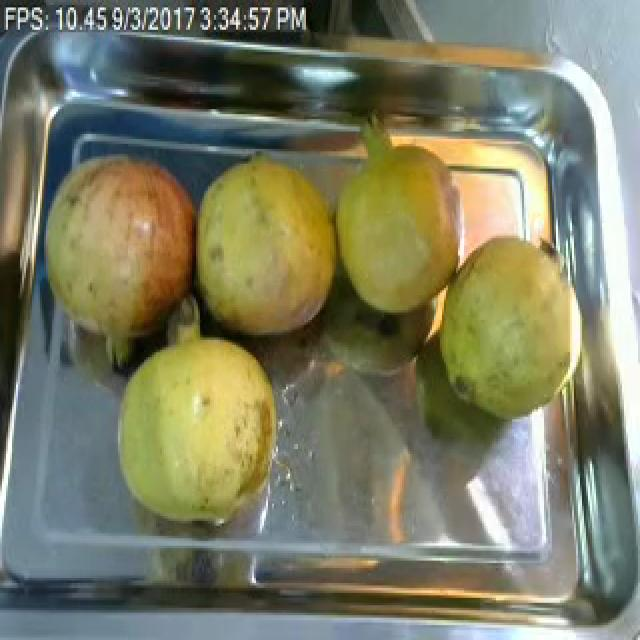fruit: (32, 139, 212, 384), (108, 320, 296, 541), (426, 218, 590, 434), (186, 142, 350, 348), (324, 126, 478, 328)
